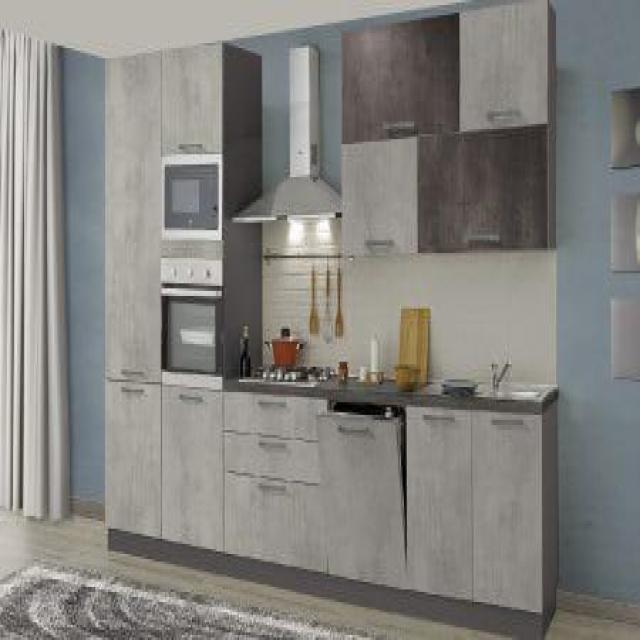dishwasher: (313, 394, 409, 590)
